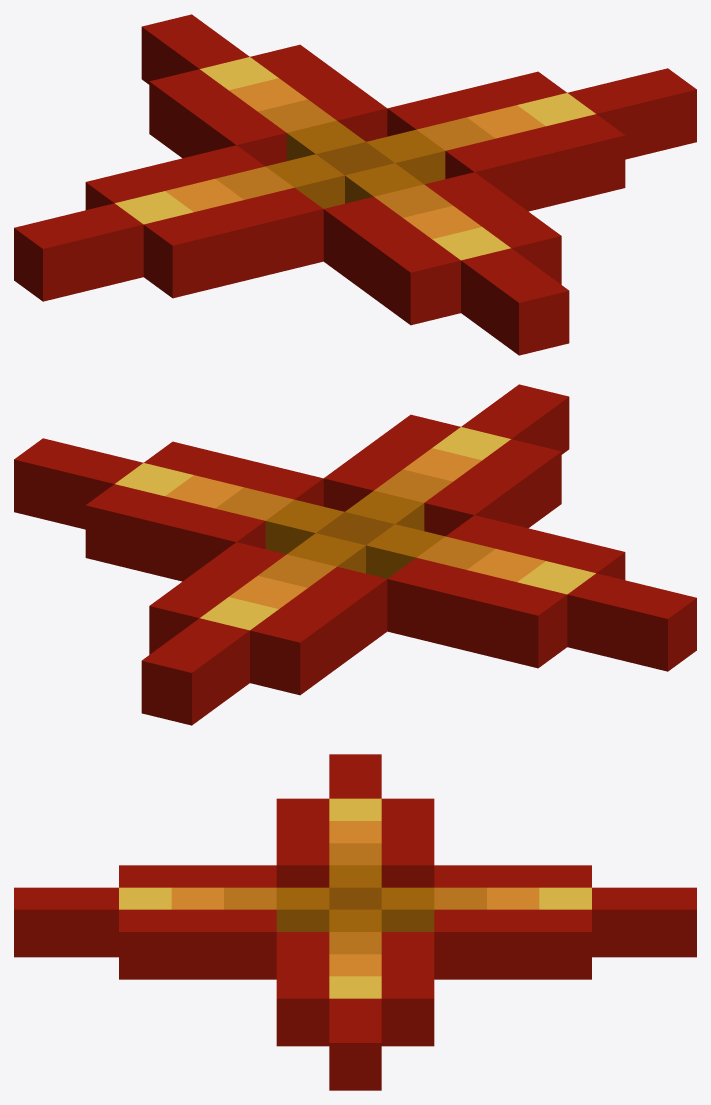
Rendered from flower2.obj.
3 views of the same model, one above another, from view 1: azimuth 30°, elevation 25°; view 2: azimuth 150°, elevation 25°; view 3: azimuth 270°, elevation 25° (orthographic). The views are drawn at different scales.
Parts seen in each view (by area): view 1: flower2; view 2: flower2; view 3: flower2.
Boxes of the visible parts, box(x1,y1,x2,y2) form: flower2: box(14, 14, 696, 355); flower2: box(14, 384, 696, 725); flower2: box(14, 754, 696, 1090).
Bounding box in the file's own units: 13 × 1 × 13.
Materials: 1 (1 with a texture image).
